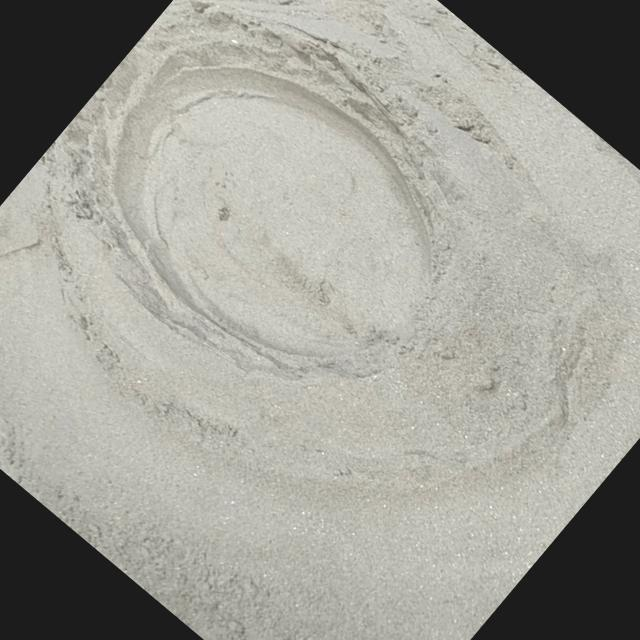C40: (73, 0, 450, 375)
